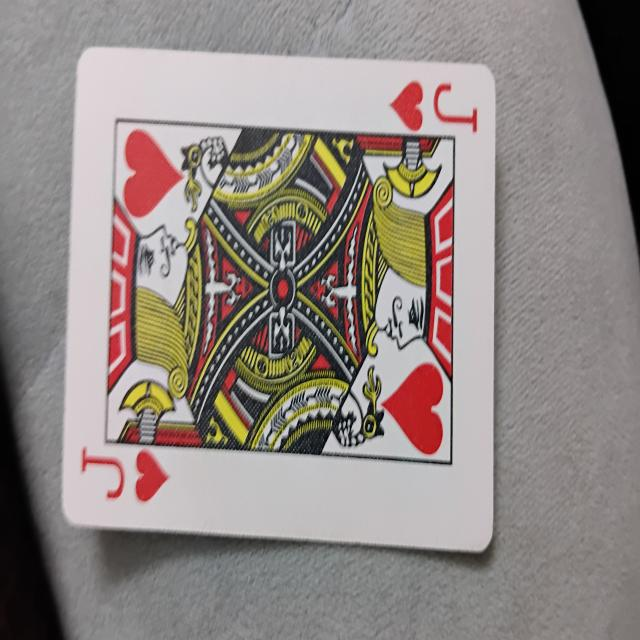JH: (71, 52, 496, 554)
